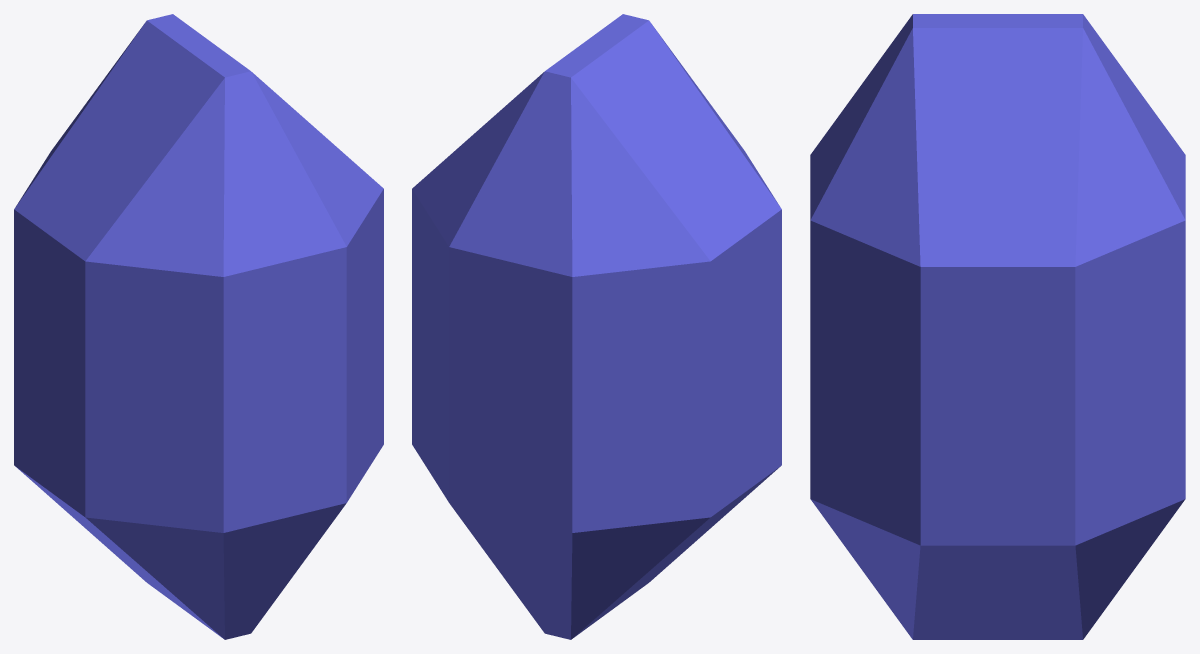
Rendered from gem.gltf.
The picture shows the model from 3 angles, left to right: view 1: azimuth 30°, elevation 25°; view 2: azimuth 150°, elevation 25°; view 3: azimuth 270°, elevation 25°; orthographic projection. The views are drawn at different scales.
Visible parts, largest first — view 1: Cube.001; view 2: Cube.001; view 3: Cube.001.
Boxes of the visible parts, x1,y1,x2,y2 form: Cube.001: [14, 14, 383, 639]; Cube.001: [412, 14, 781, 639]; Cube.001: [810, 14, 1185, 639].
Bounding box in the file's own units: 1.33 × 2.39 × 1.33.
